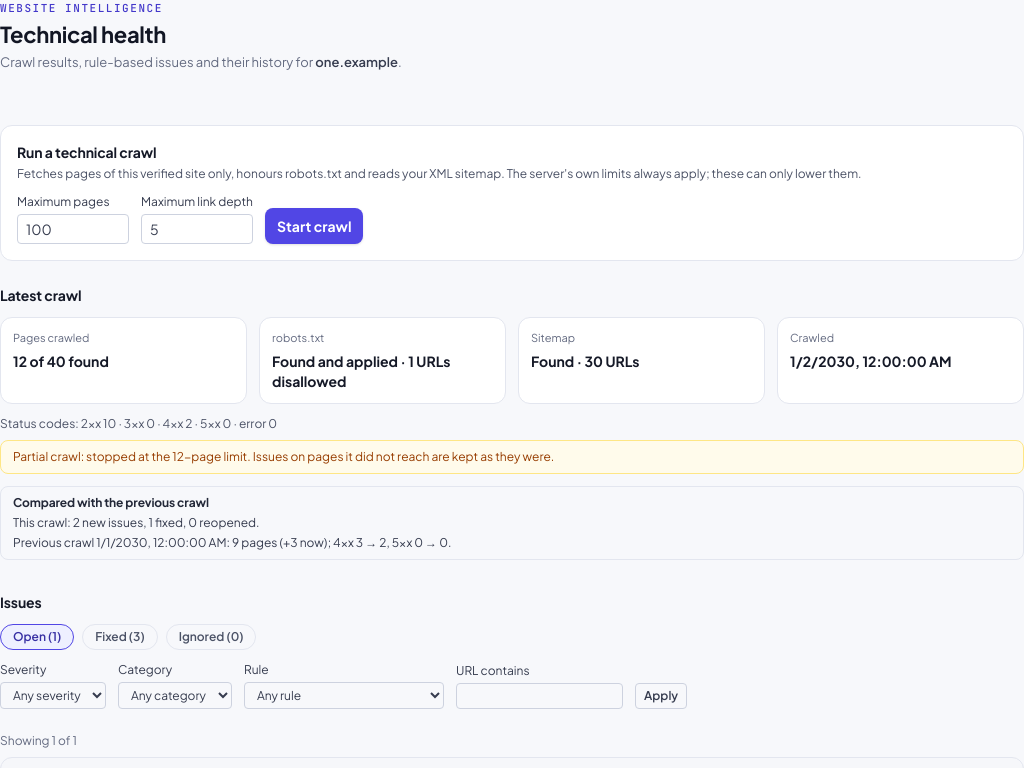
Test: TechnicalHealthPage › keeps the same idempotency key when starting a crawl fails on the network, and explains server refusals
The image size is (1024, 768).
Click the button "Start crawl".
click(314, 226)  # box 265,208 -> 363,244
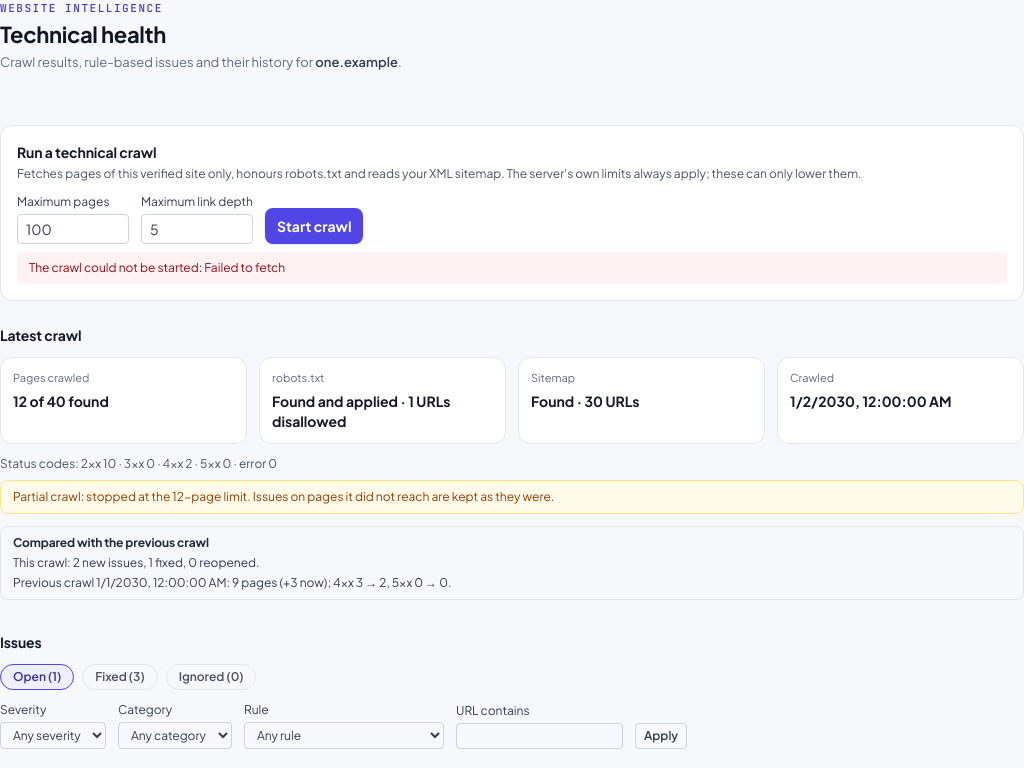
Result: the message "The crawl could not be started: Failed to fetch" is shown at 17,252 -> 1007,284
Click the button "Start crawl".
click(314, 226)  # box 265,208 -> 363,244
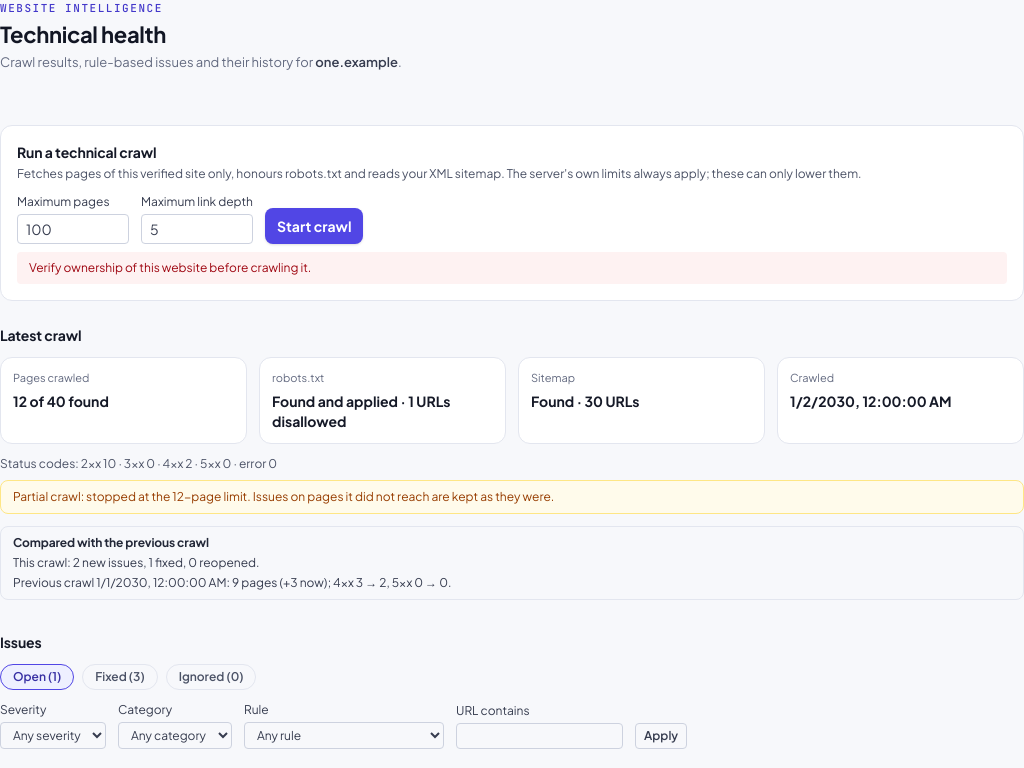
Result: the text "Verify ownership of this website before crawling it." is shown at 17,252 -> 1007,284
